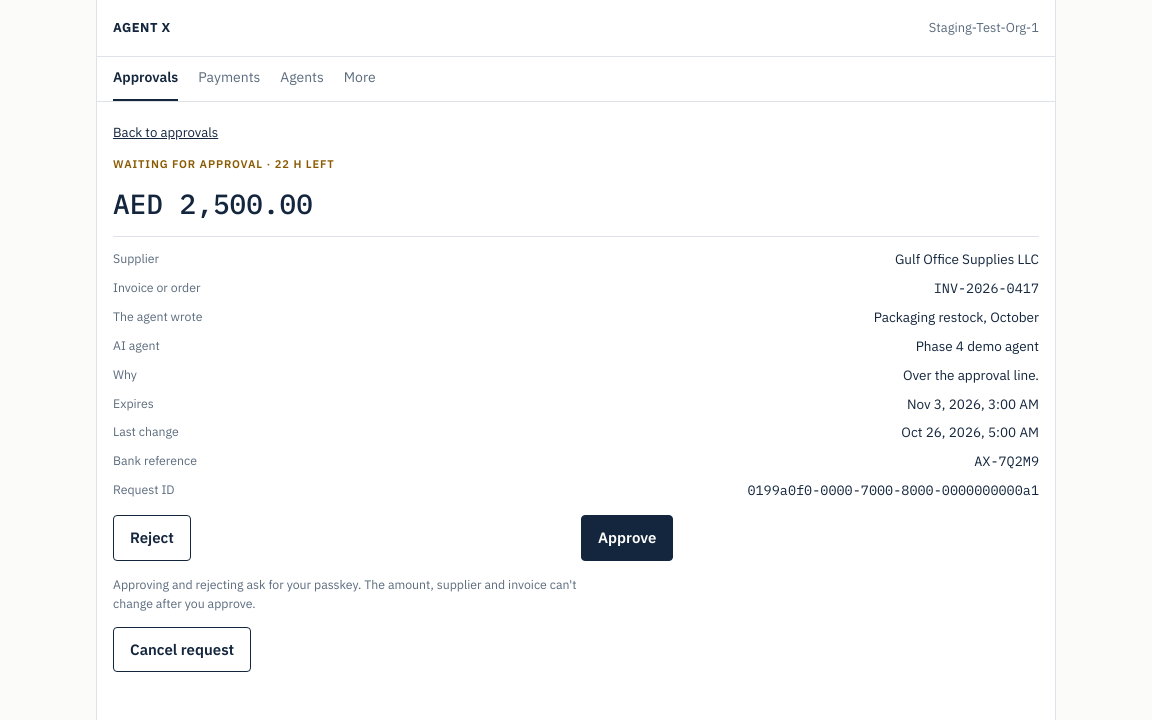
Test case: one request’s page (6B1) › says a browser that keeps no storage can not step up, and changes nothing
Click the button "Approve": click(627, 538) [581,515,673,561]
(page scrolled)
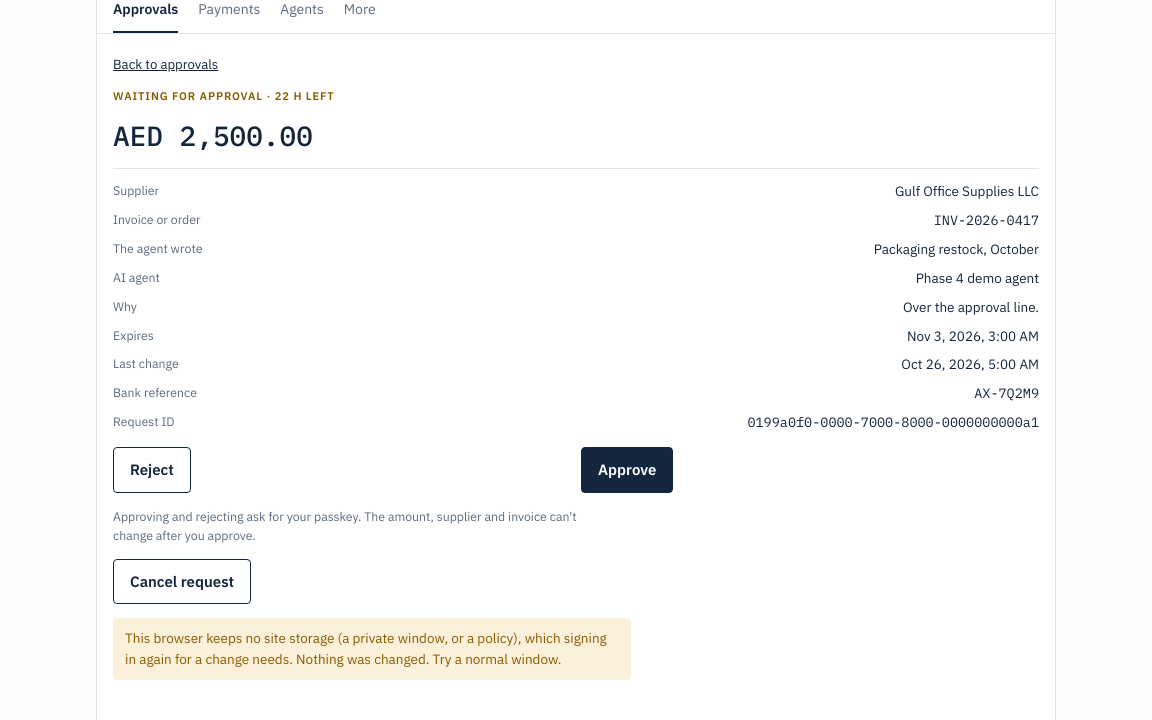
Check: the text "This browser keeps no site storage" is shown, box [125,629,607,668]
